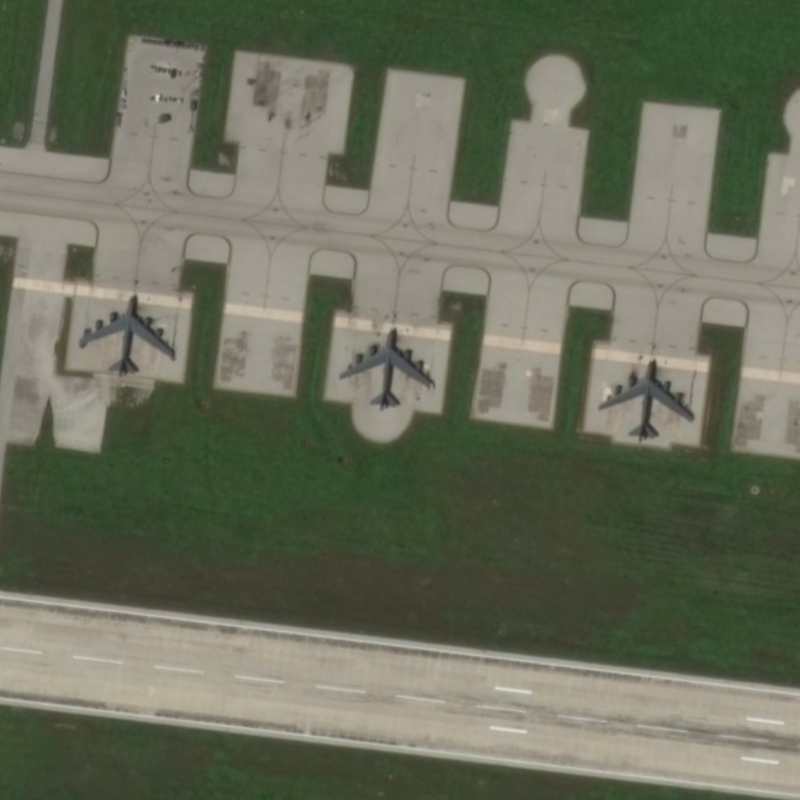A8: (336, 320, 440, 413), (74, 290, 180, 378), (597, 356, 700, 444)
